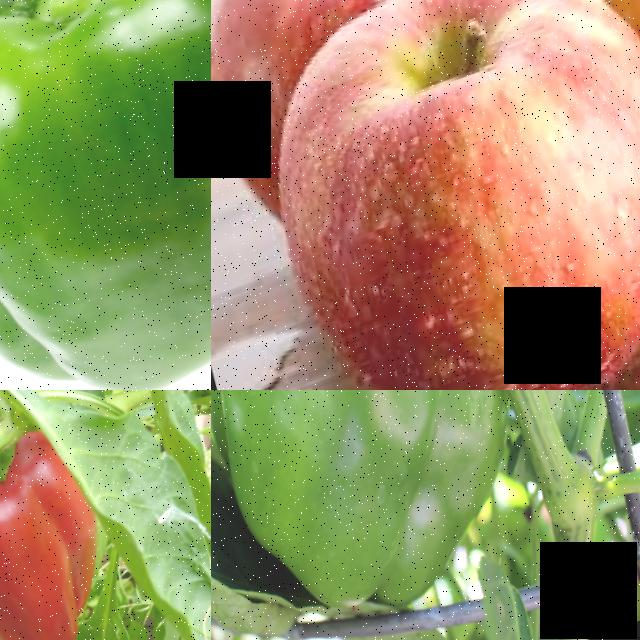apple: (212, 0, 640, 390), (211, 0, 545, 72)
bell pepper: (211, 390, 595, 640), (0, 0, 211, 390), (0, 415, 133, 640)
